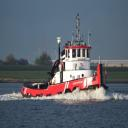tugboat: (21, 14, 110, 104)
